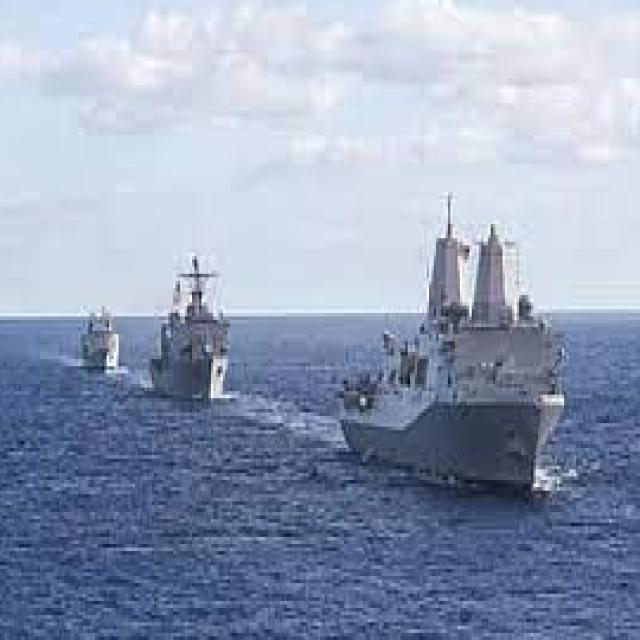navalvessels: (330, 205, 578, 487), (150, 252, 250, 405), (74, 312, 136, 376)
